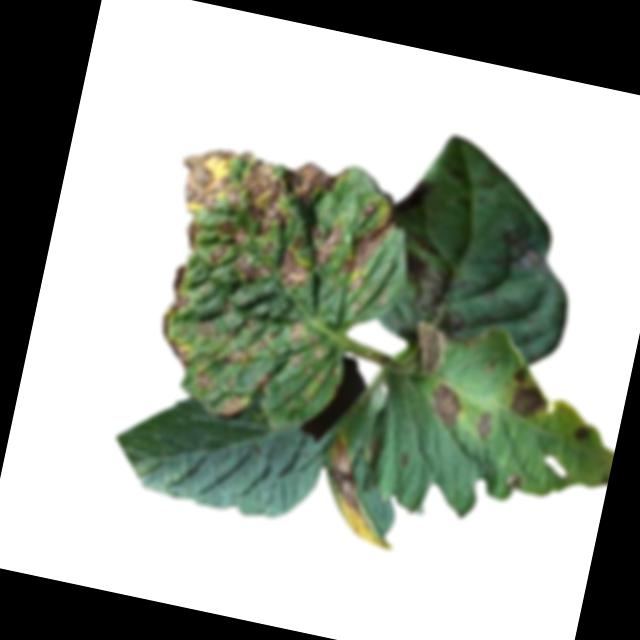Early_blight: (131, 129, 416, 445), (312, 438, 414, 553), (394, 249, 469, 322), (494, 229, 565, 281), (501, 366, 555, 424), (407, 316, 453, 379), (427, 381, 471, 428), (394, 178, 429, 223), (471, 410, 497, 445), (570, 421, 597, 448), (501, 470, 525, 494)
